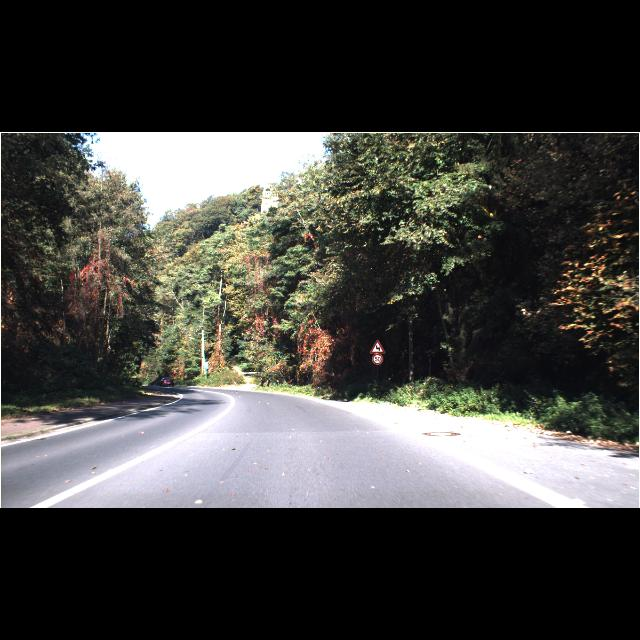danger: (369, 340, 385, 354)
prohibitory: (371, 354, 383, 364)
